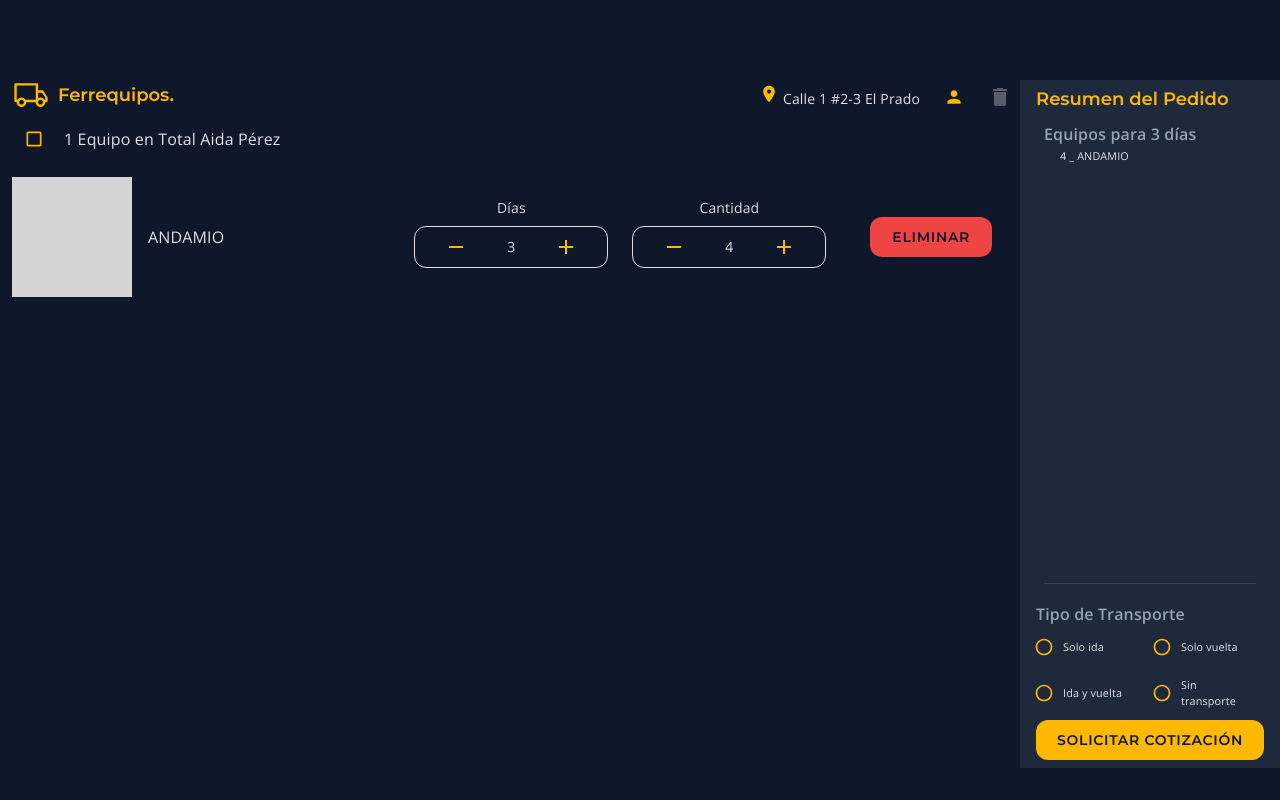
Test: KioskCart › manda la solicitud con los equipos que el cliente eligió
The image size is (1280, 800).
Click the button "Solicitar Cotización".
click(1150, 740)  # box left=1036, top=720, right=1264, bottom=760
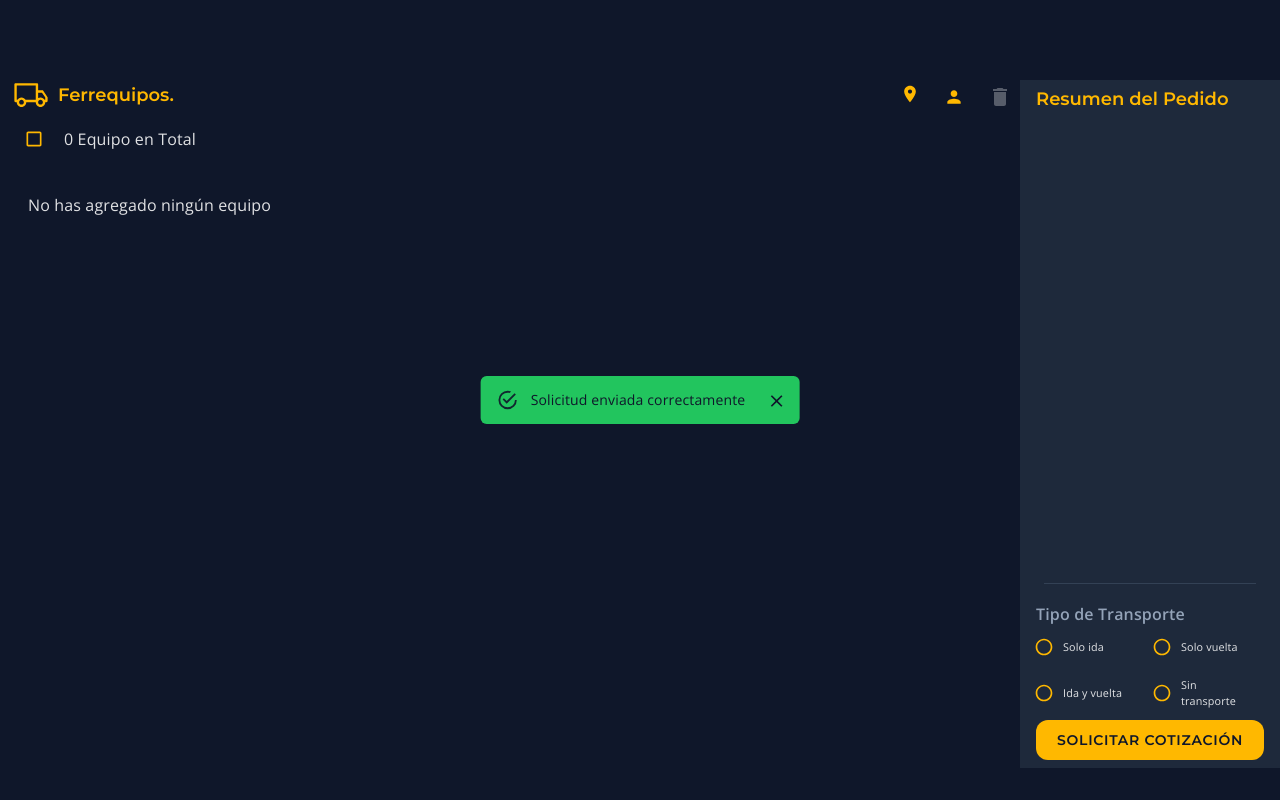
Check: the text "Solicitud enviada correctamente" is shown, box left=531, top=390, right=745, bottom=409
